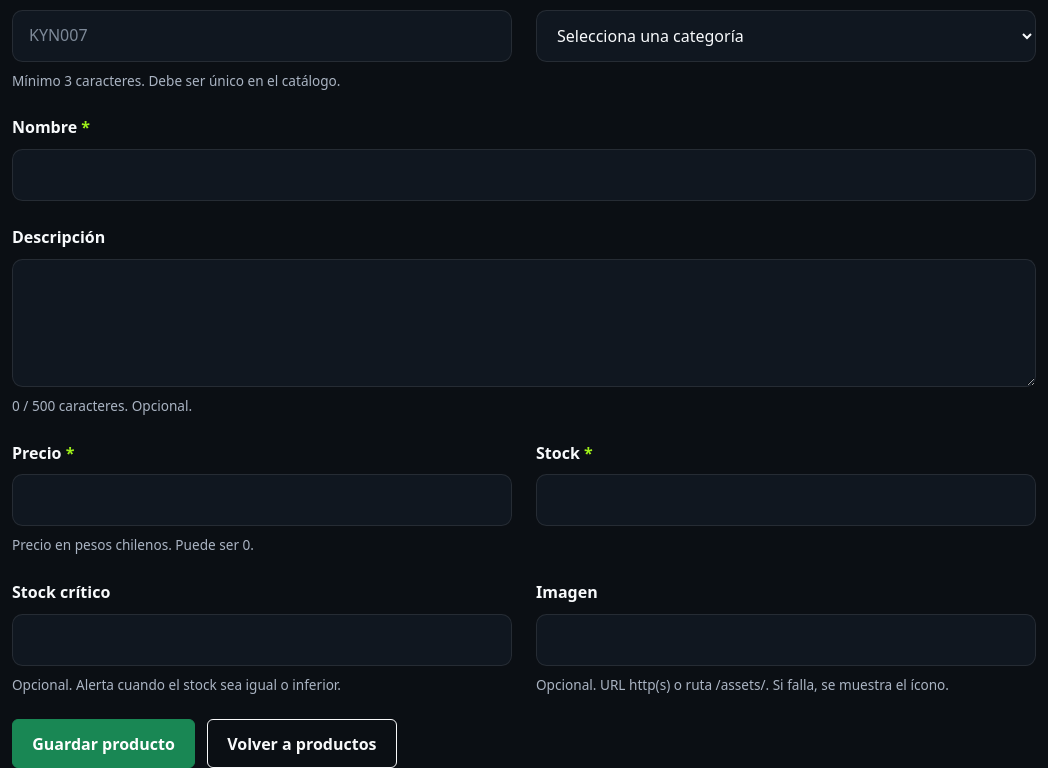
Test case: AdminProductForm › bloquea datos vacíos y enfoca el primer error asociado
The width and height of the screenshot is (1048, 768).
(page scrolled)
Click the button "Guardar producto" at {"x": 104, "y": 744}, box left=12, top=719, right=195, bottom=767
(page scrolled)
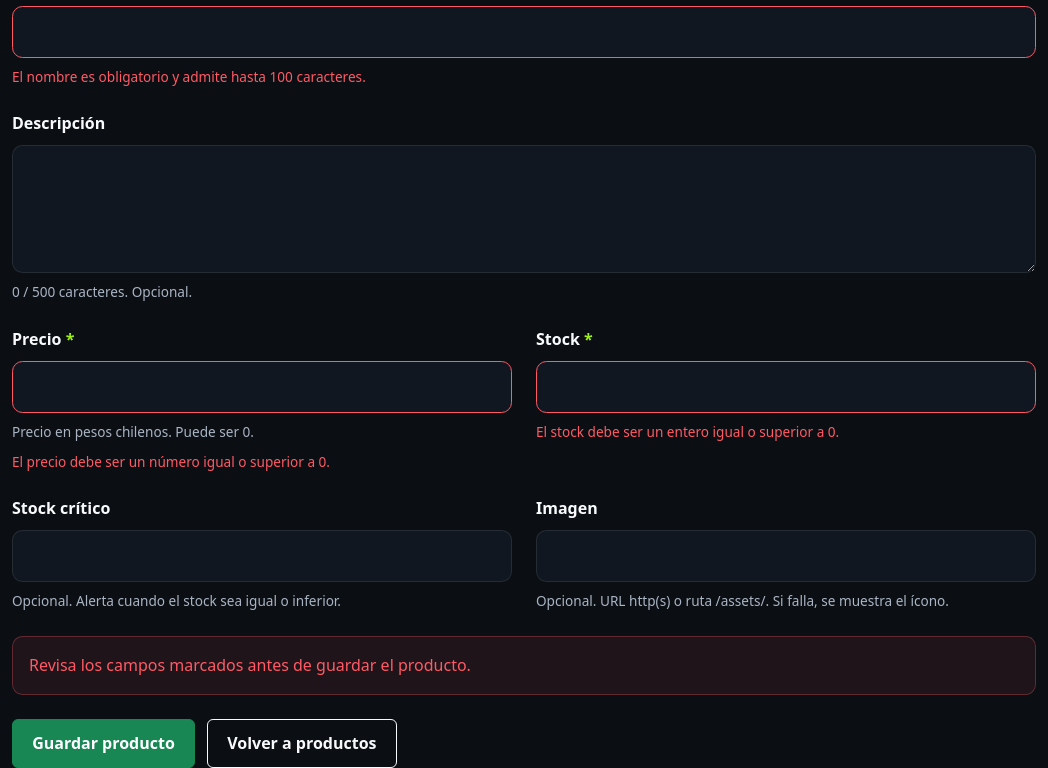
Now the message shows "Revisa los campos", box left=29, top=654, right=471, bottom=676
